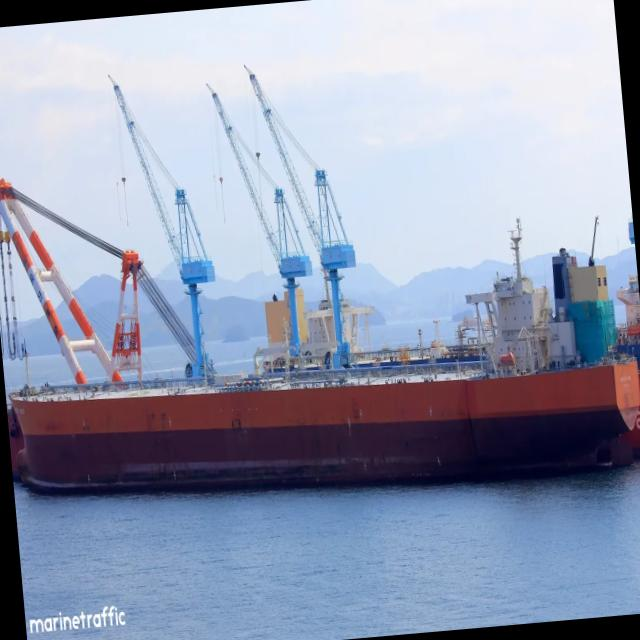Tanker: (11, 249, 640, 489)
